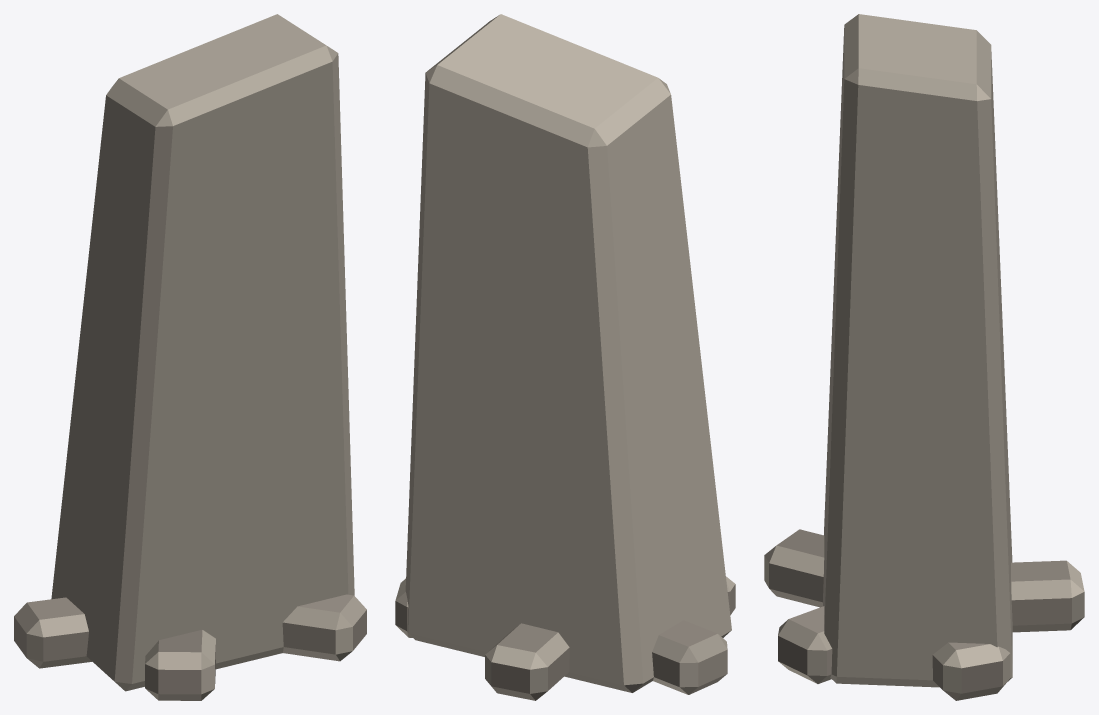
The model's file is SM_Kit_menir.fbx.
3 renders of one model, left to right at view 1: azimuth 30°, elevation 25°; view 2: azimuth 150°, elevation 25°; view 3: azimuth 270°, elevation 25°, orthographic. The views are drawn at different scales.
Visible parts, largest first — view 1: SM_Kit_menir; view 2: SM_Kit_menir; view 3: SM_Kit_menir.
Boxes of the visible parts, x1,y1,x2,y2 form: SM_Kit_menir: (14,14,366,700); SM_Kit_menir: (395,14,735,700); SM_Kit_menir: (764,14,1084,700).
Size of what is drawn, in the model's own units: 136 by 241 by 114.
